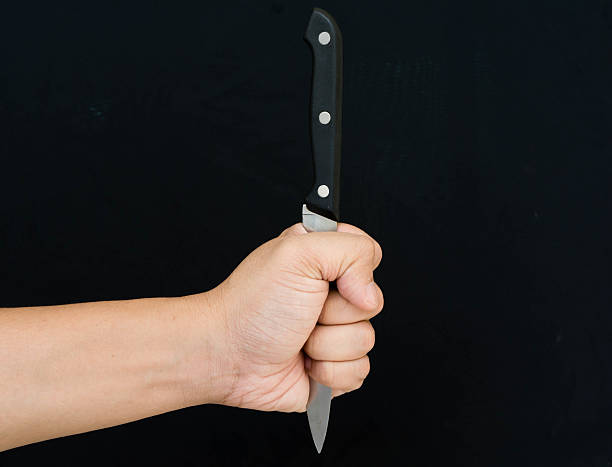knife: (299, 5, 347, 457)
